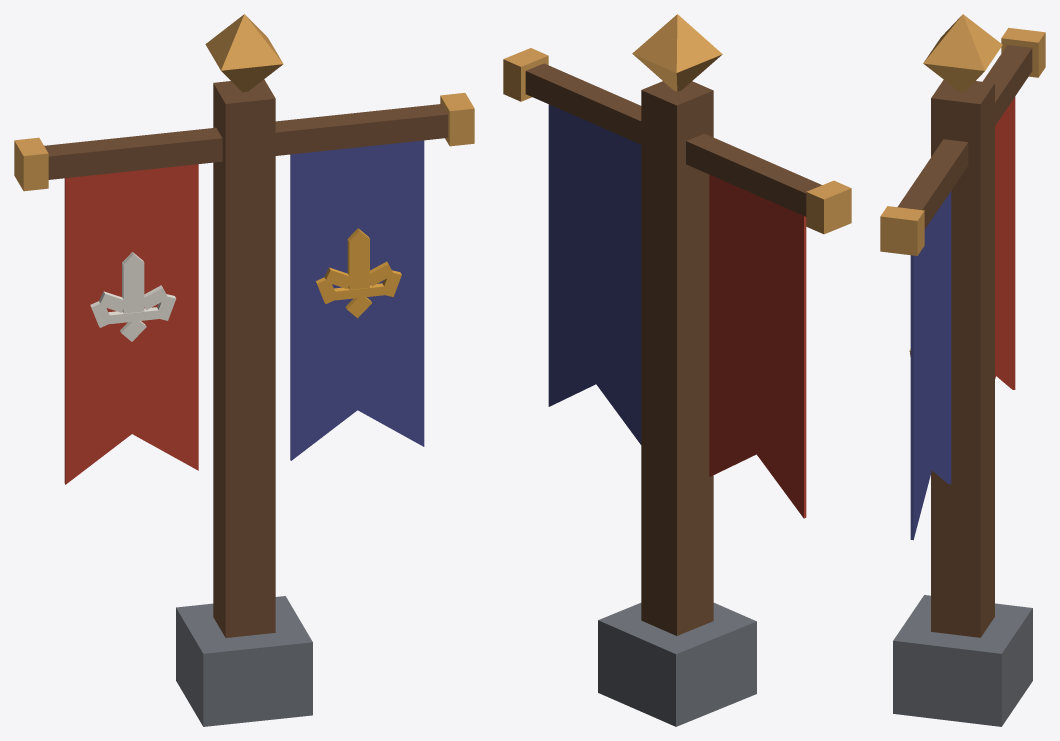
File: festival banner.fbx
3 renders of one model, left to right at view 1: azimuth 30°, elevation 25°; view 2: azimuth 150°, elevation 25°; view 3: azimuth 270°, elevation 25°, orthographic.
Parts seen in each view (by area): view 1: Banner_Left_Red; view 2: Banner_Left_Red; view 3: Banner_Left_Red.
Boxes of the visible parts, <box> form: Banner_Left_Red: <box>14,14,474,726</box>; Banner_Left_Red: <box>503,14,851,726</box>; Banner_Left_Red: <box>880,14,1045,726</box>.
Size of the model in its own units: 283 by 468 by 102.
